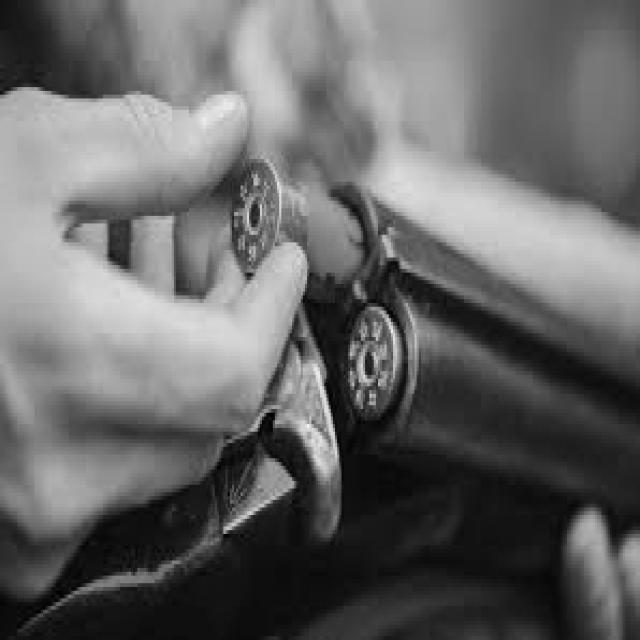handgun: (0, 159, 638, 640)
